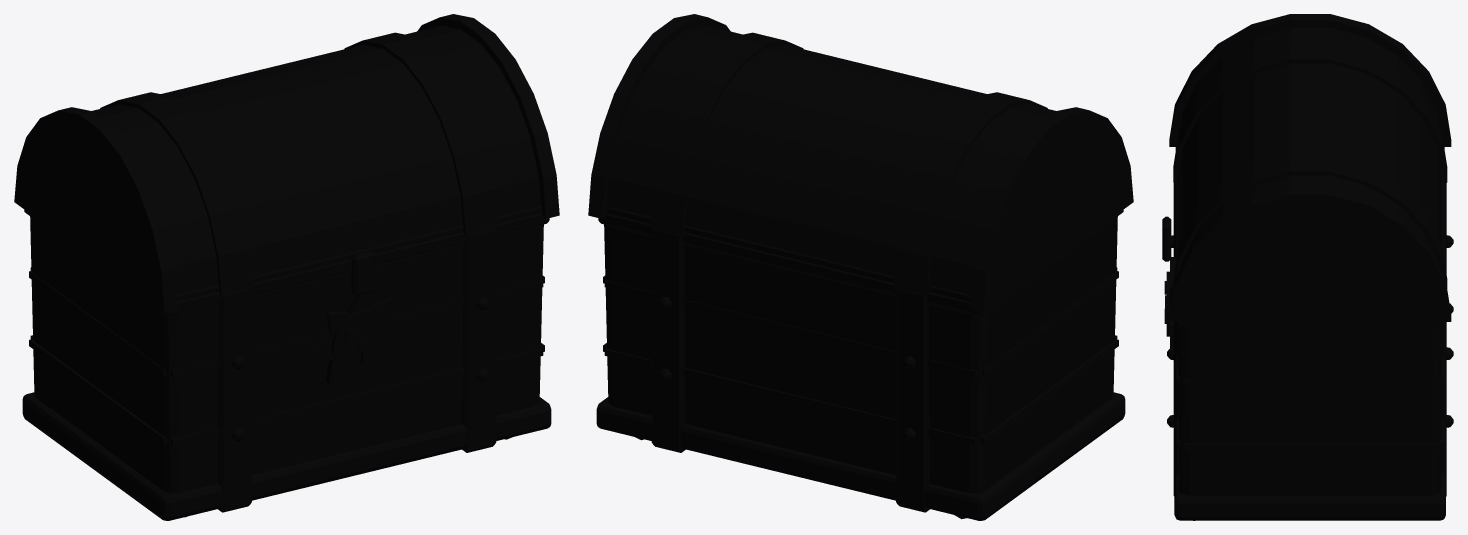
File: tb_chest_small.obj-static.obj
3 renders of one model, left to right at view 1: azimuth 30°, elevation 25°; view 2: azimuth 150°, elevation 25°; view 3: azimuth 270°, elevation 25°, orthographic. The views are drawn at different scales.
Visible parts, largest first — view 1: chest_body, chest_lid; view 2: chest_body, chest_lid; view 3: chest_lid, chest_body.
Part boxes in pixels (<box>): chest_body: <box>22,210,551,520</box>; chest_lid: <box>14,14,559,311</box>; chest_body: <box>596,210,1125,520</box>; chest_lid: <box>588,14,1133,311</box>; chest_lid: <box>1162,14,1451,321</box>; chest_body: <box>1164,145,1453,520</box>.
Bounding box in the file's own units: 1.45 × 1.28 × 0.9844.
Materials: 1 (1 with a texture image).
